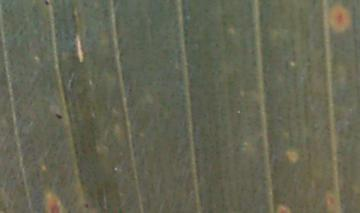tarspot: (54, 112, 62, 121), (42, 1, 52, 6), (126, 87, 134, 93), (83, 202, 89, 209), (212, 41, 219, 47)
